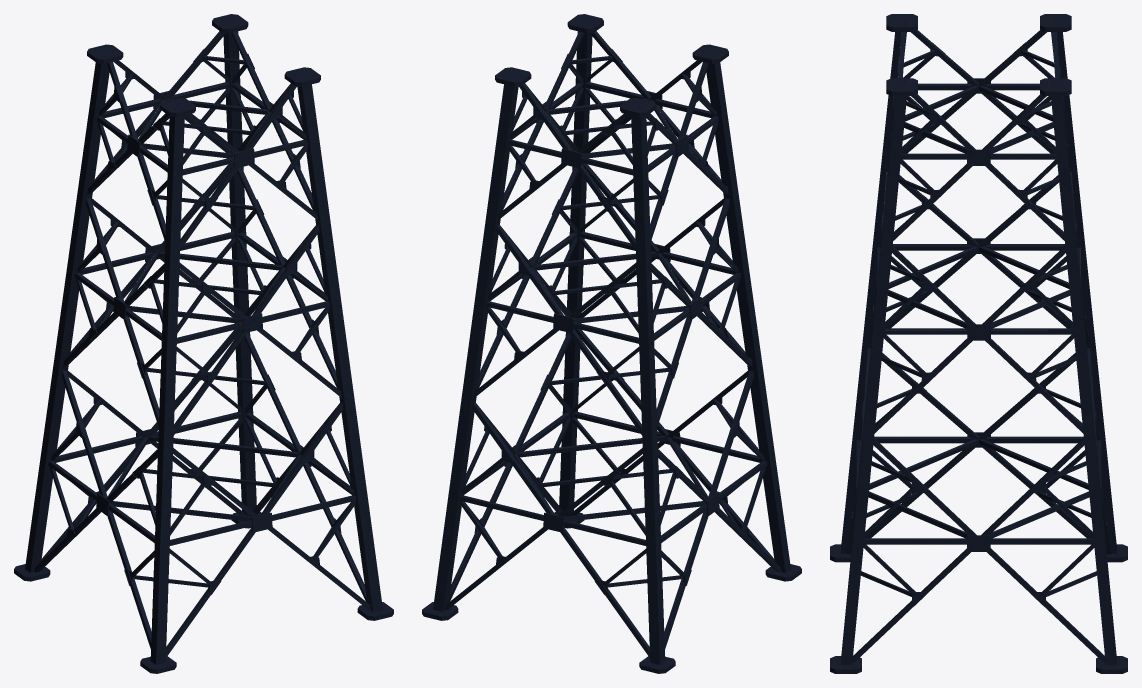
The model's file is tower_base_a.fbx.
The picture shows the model from 3 angles, left to right: view 1: azimuth 30°, elevation 25°; view 2: azimuth 150°, elevation 25°; view 3: azimuth 270°, elevation 25°; orthographic projection. The views are drawn at different scales.
Visible parts, largest first — view 1: tower_base_a; view 2: tower_base_a; view 3: tower_base_a.
Part boxes in pixels (<box>): tower_base_a: <box>14,14,393,673</box>; tower_base_a: <box>422,14,801,673</box>; tower_base_a: <box>830,14,1127,673</box>.
Size of the model in its own units: 123 by 255 by 123.
